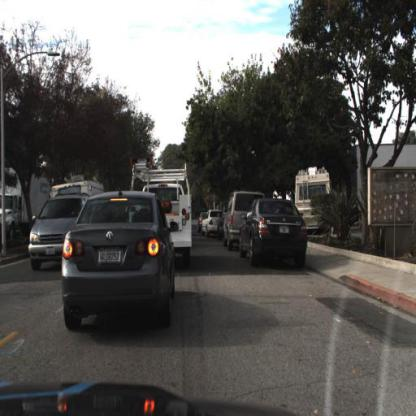car: (66, 191, 176, 331), (237, 197, 309, 270), (30, 193, 90, 274), (166, 163, 197, 271), (223, 189, 267, 253), (49, 171, 98, 221), (201, 208, 224, 241), (216, 200, 228, 246)
truck: (142, 181, 196, 261), (1, 167, 50, 244), (292, 164, 336, 243), (51, 176, 105, 239)
